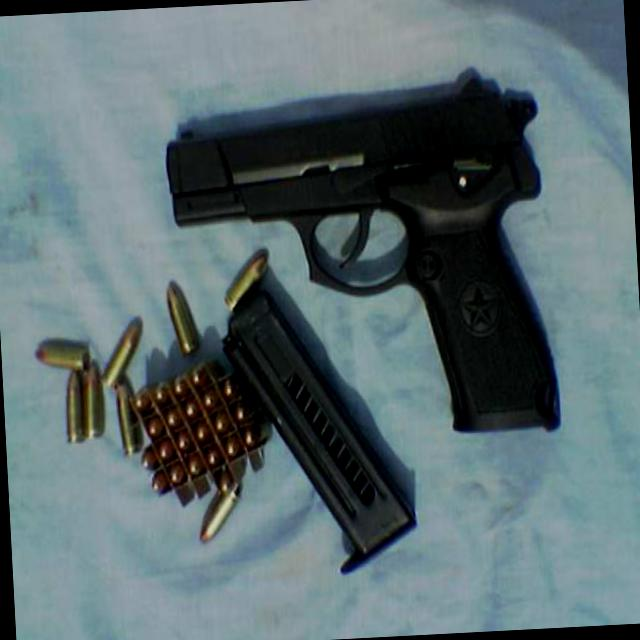handgun: (160, 71, 560, 450)
